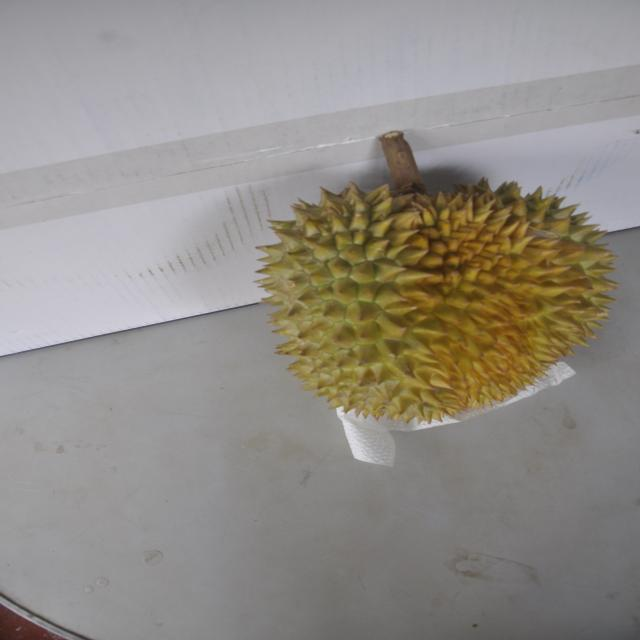mature: (248, 166, 614, 425)
